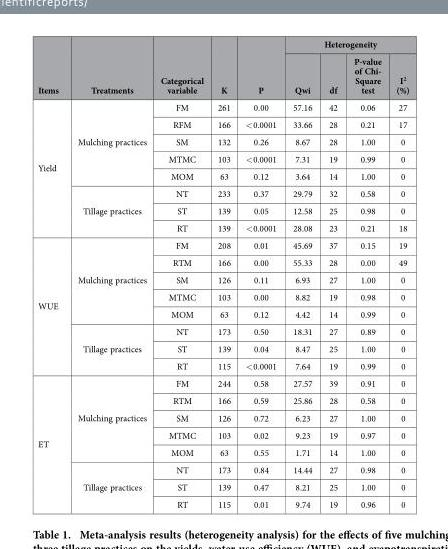table: (37, 37, 408, 509)
table column: (67, 37, 153, 509), (153, 37, 209, 509), (237, 37, 284, 509), (345, 37, 388, 509), (284, 37, 319, 509), (37, 37, 67, 509), (209, 37, 237, 509), (319, 37, 345, 509), (388, 37, 408, 509)
table column header: (37, 37, 408, 98)
table row: (37, 52, 408, 98), (37, 132, 408, 150), (37, 201, 408, 219), (37, 270, 408, 288), (37, 339, 408, 357), (37, 408, 408, 426), (37, 477, 408, 495), (37, 98, 408, 115), (37, 115, 408, 132), (37, 150, 408, 167), (37, 167, 408, 184), (37, 184, 408, 201), (37, 219, 408, 236), (37, 236, 408, 253), (37, 253, 408, 270), (37, 288, 408, 305), (37, 305, 408, 322), (37, 322, 408, 339), (37, 357, 408, 374), (37, 374, 408, 391), (37, 391, 408, 408), (37, 426, 408, 443), (37, 443, 408, 460), (37, 460, 408, 477), (37, 37, 408, 52), (37, 495, 408, 509)
table spanning cell: (67, 98, 153, 184), (67, 236, 153, 322), (67, 374, 153, 460), (67, 37, 153, 98), (67, 184, 153, 236), (67, 322, 153, 374), (67, 460, 153, 509), (37, 98, 67, 236), (37, 236, 67, 374), (37, 374, 67, 509), (153, 37, 209, 98), (237, 37, 284, 98), (284, 37, 408, 52), (37, 37, 67, 98), (209, 37, 237, 98)
